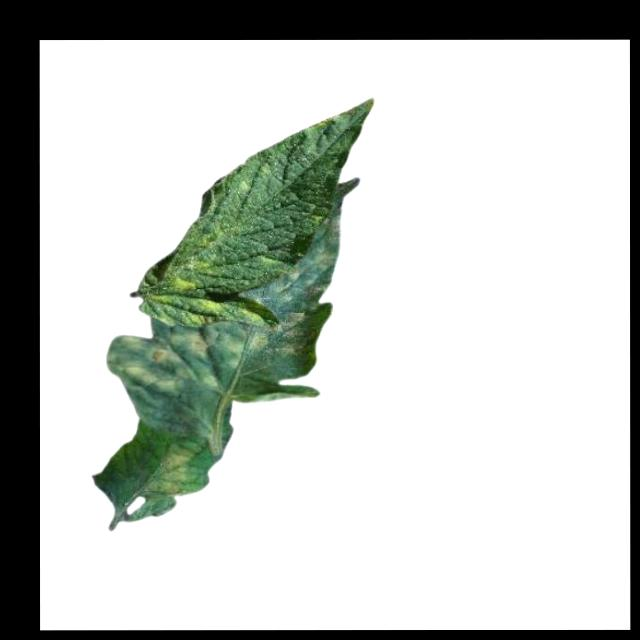Leaf_Mold: (103, 312, 309, 389), (139, 228, 226, 314), (142, 443, 193, 494)
